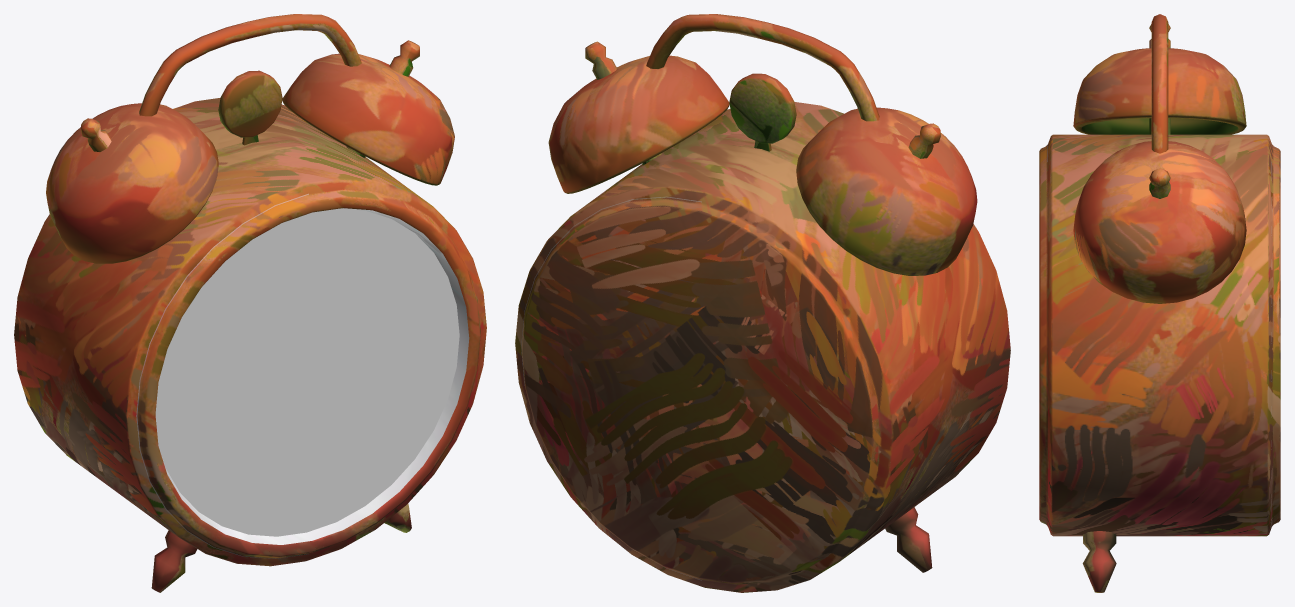
Rendered from prop_clock5.fbx.
The picture shows the model from 3 angles, left to right: view 1: azimuth 30°, elevation 25°; view 2: azimuth 150°, elevation 25°; view 3: azimuth 270°, elevation 25°; orthographic projection. The views are drawn at different scales.
Visible parts, largest first — view 1: prop_clock5_common, prop_clock5_glass, prop_clock5_display; view 2: prop_clock5_common; view 3: prop_clock5_common.
Boxes of the visible parts, x1,y1,x2,y2 form: prop_clock5_common: (14,14,486,592); prop_clock5_glass: (155,208,459,536); prop_clock5_display: (158,208,469,544); prop_clock5_common: (515,14,1010,592); prop_clock5_common: (1039,14,1280,592).
Bounding box in the file's own units: 1.06 × 1.37 × 0.6.
